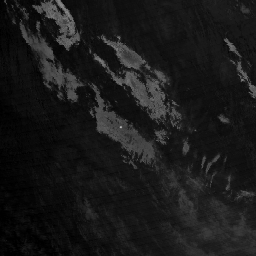Target: (118, 125, 123, 130)
